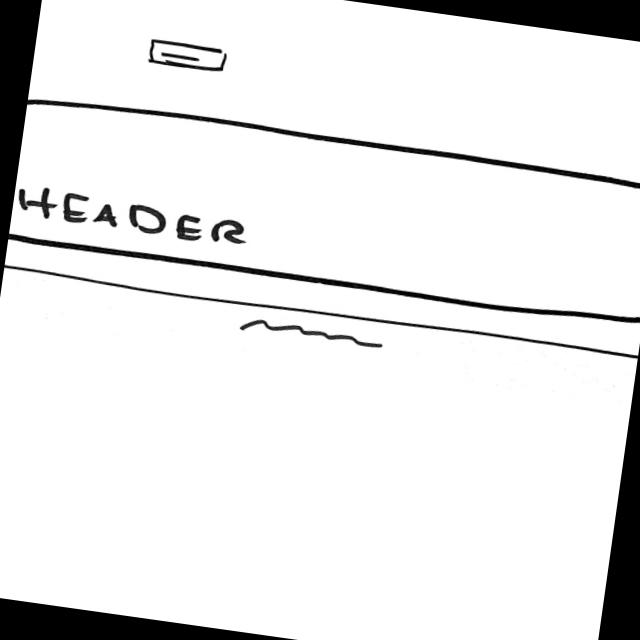container: (8, 93, 640, 332)
icon-button: (142, 35, 231, 77)
label: (15, 182, 255, 251)
text: (240, 316, 390, 354)
